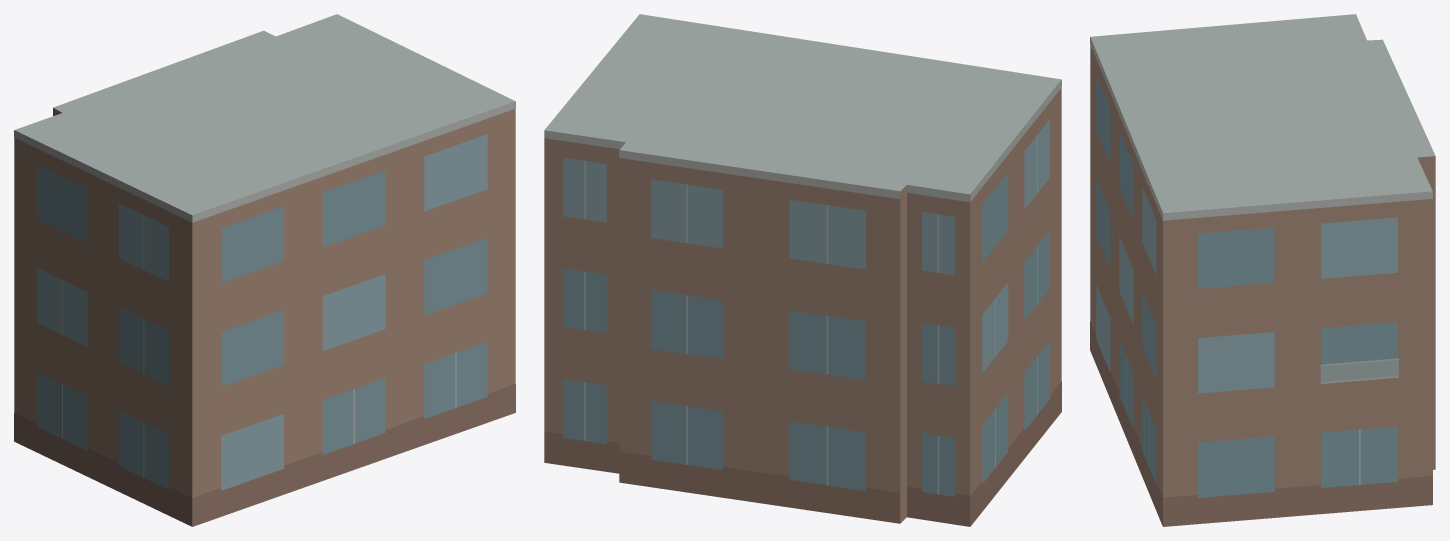
The model's file is survey-upis-32913971.glb.
3 views of the same model, side by side, from view 1: azimuth 30°, elevation 25°; view 2: azimuth 150°, elevation 25°; view 3: azimuth 270°, elevation 25° (orthographic). The views are drawn at different scales.
Visible parts, largest first — view 1: survey-upis-32913971.tmp; view 2: survey-upis-32913971.tmp; view 3: survey-upis-32913971.tmp.
Part boxes in pixels (x1,y1,x2,y2): survey-upis-32913971.tmp: [14, 14, 515, 526]; survey-upis-32913971.tmp: [544, 14, 1061, 526]; survey-upis-32913971.tmp: [1090, 14, 1435, 526].
Size of the model in its own units: 14.05 by 10.3 by 10.29.
